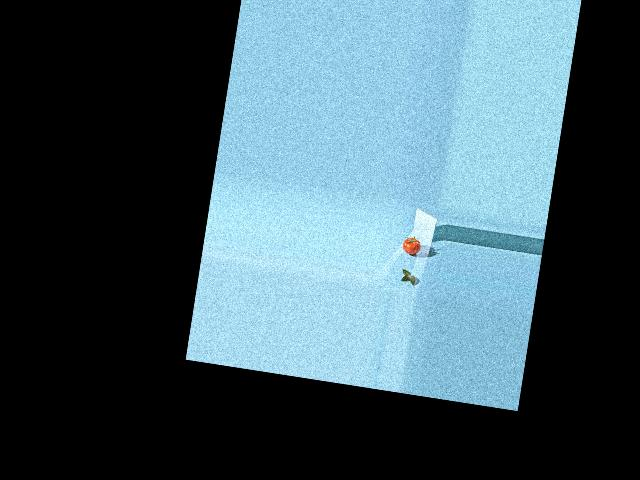tomato: (401, 236, 422, 255)
